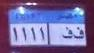1: (38, 26, 46, 43), (21, 25, 28, 43), (30, 26, 37, 43), (12, 25, 18, 44)
faa: (61, 25, 73, 41), (74, 26, 85, 41)
